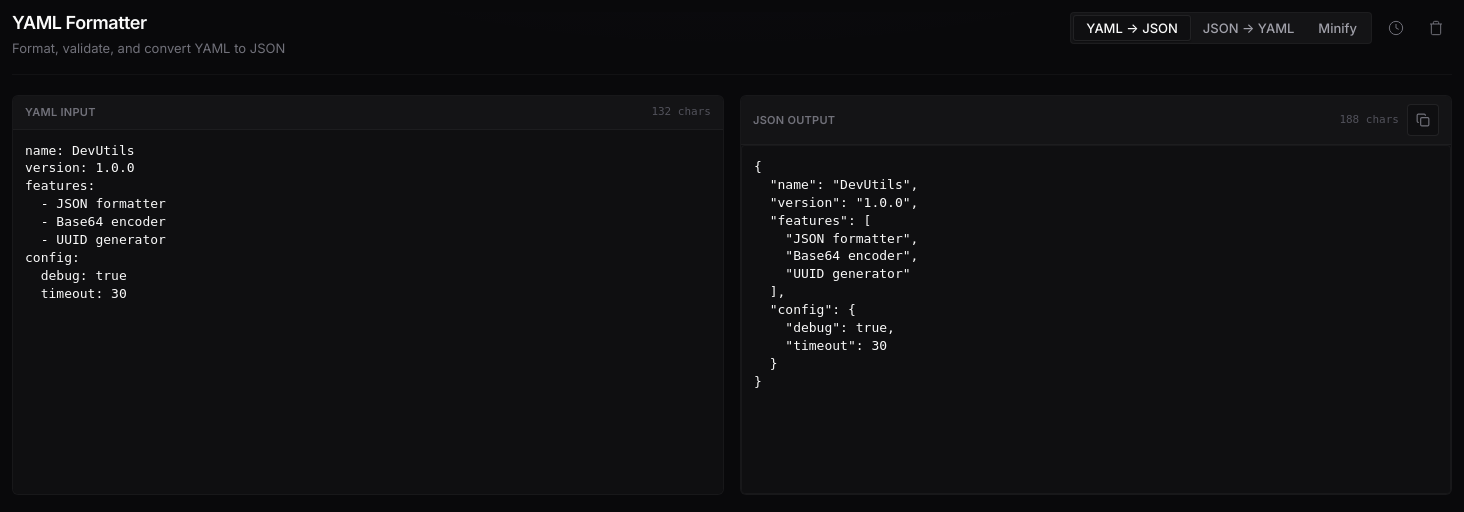
Test: YamlTool › should minify YAML
This screenshot has width=1464, height=512.
First input some YAML
Replace the text in the text box with class "editor-textarea" with "name: DevUtils version: 1.0.0" at (368, 312), box [13,130,723,494]
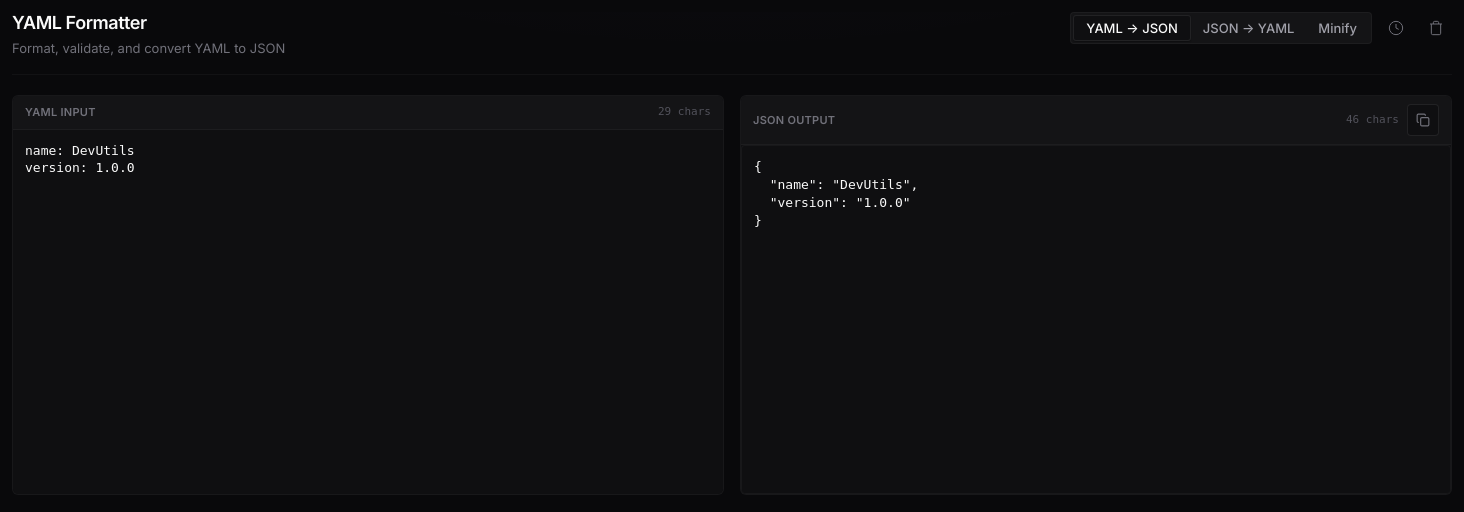
Then switch to minify mode
Click the tab "Minify".
click(1338, 28)  # box [1306,15,1369,41]
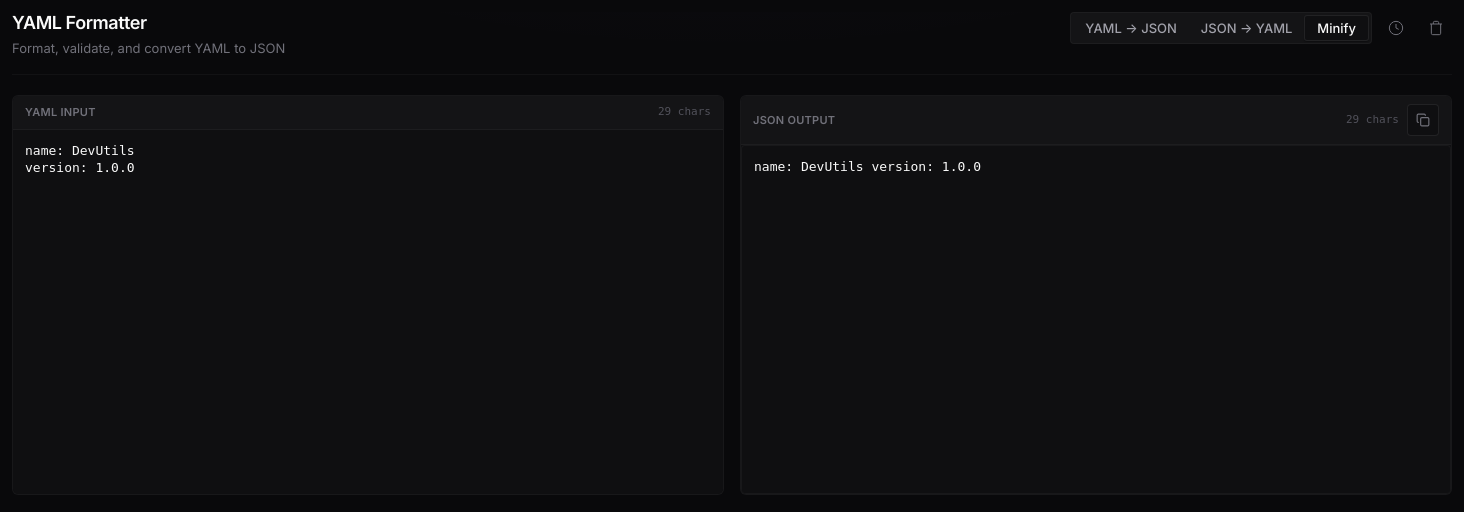
Expected: the element with class "output-display" does not show ""
Result: the text with class "output-display" reads "name: DevUtils version: 1.0.0" at [754,159,981,174]
